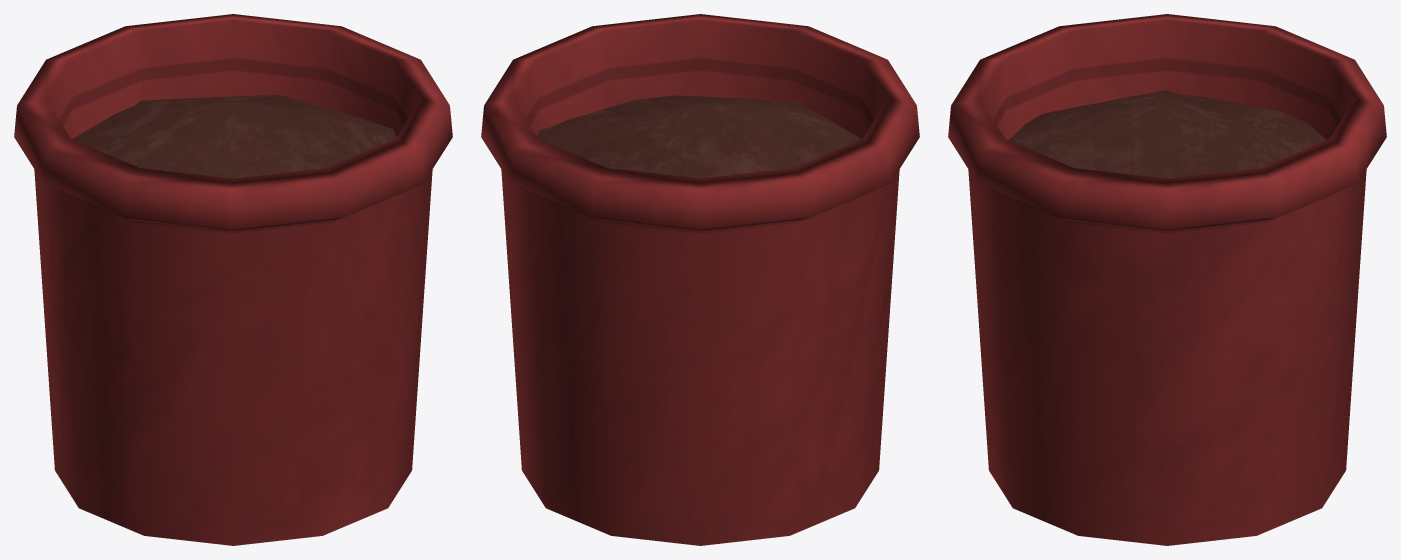
The model's file is plantenpot.fbx.
3 views of the same model, side by side, from view 1: azimuth 30°, elevation 25°; view 2: azimuth 150°, elevation 25°; view 3: azimuth 270°, elevation 25° (orthographic).
Parts seen in each view (by area): view 1: plantenpot, Dirt; view 2: plantenpot, Dirt; view 3: plantenpot, Dirt.
Boxes of the visible parts, bbox=[...] form: plantenpot: bbox=[14, 14, 452, 545]; Dirt: bbox=[72, 95, 396, 178]; plantenpot: bbox=[481, 14, 919, 545]; Dirt: bbox=[537, 95, 861, 178]; plantenpot: bbox=[948, 14, 1386, 545]; Dirt: bbox=[1008, 90, 1326, 178].
Size of the model in its own units: 2.46 by 2.29 by 2.46.
